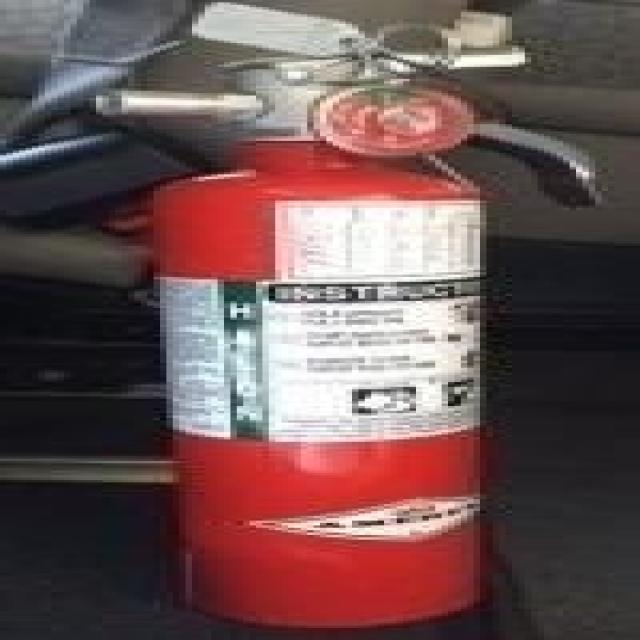fire_extinguisher: (74, 0, 624, 638)
